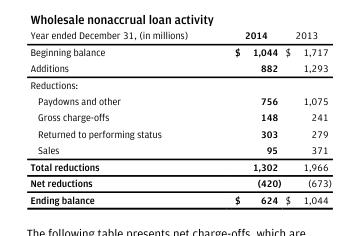table: (29, 28, 331, 204)
table column: (29, 28, 210, 204), (210, 28, 282, 204), (282, 28, 331, 204)
table column header: (29, 28, 331, 42)
table projected row header: (29, 75, 331, 92)
table row: (29, 42, 331, 59), (29, 75, 331, 92), (29, 108, 331, 125), (29, 157, 331, 174), (29, 59, 331, 75), (29, 92, 331, 108), (29, 125, 331, 141), (29, 141, 331, 157), (29, 174, 331, 190), (29, 28, 331, 42), (29, 190, 331, 204)
